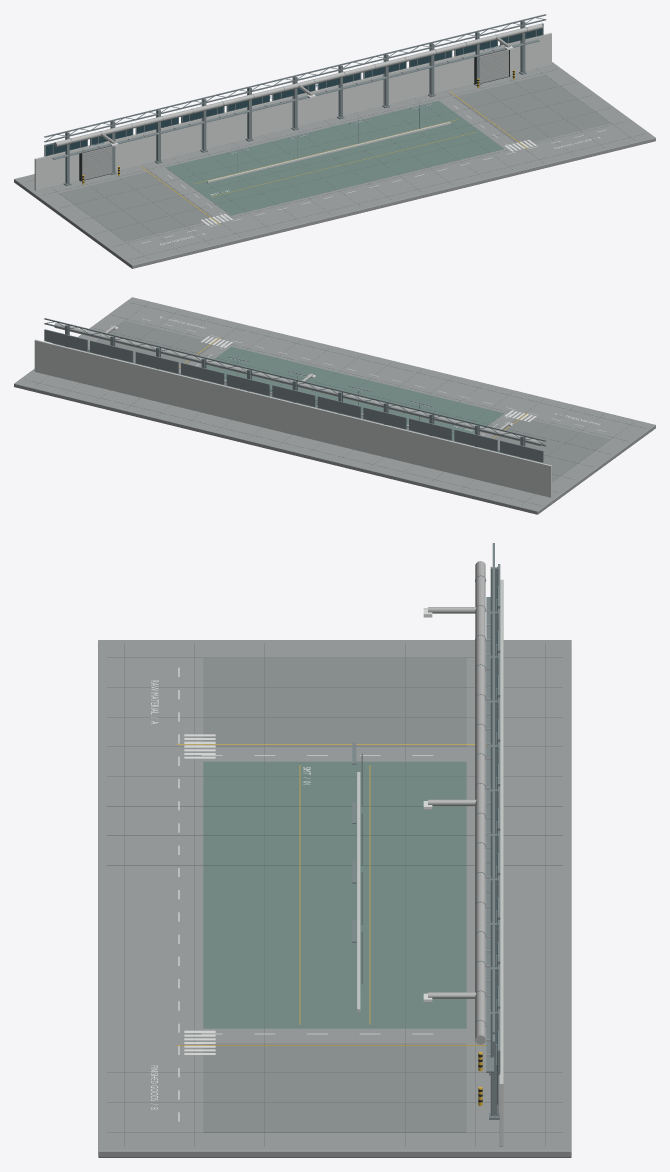
File: kit-hall-1.glb
3 views of the same model, one above another, from view 1: azimuth 30°, elevation 25°; view 2: azimuth 150°, elevation 25°; view 3: azimuth 270°, elevation 25° (orthographic). The views are drawn at different scales.
Visible parts, largest first — view 1: Foundation; view 2: Foundation; view 3: Foundation.
Part boxes in pixels (left/top/right/bottom): Foundation: left=14, top=14, right=655, bottom=268; Foundation: left=14, top=297, right=655, bottom=514; Foundation: left=98, top=543, right=571, bottom=1157.
Bounding box in the file's own units: 69 × 7.23 × 27.
2 materials, 2 textured.
